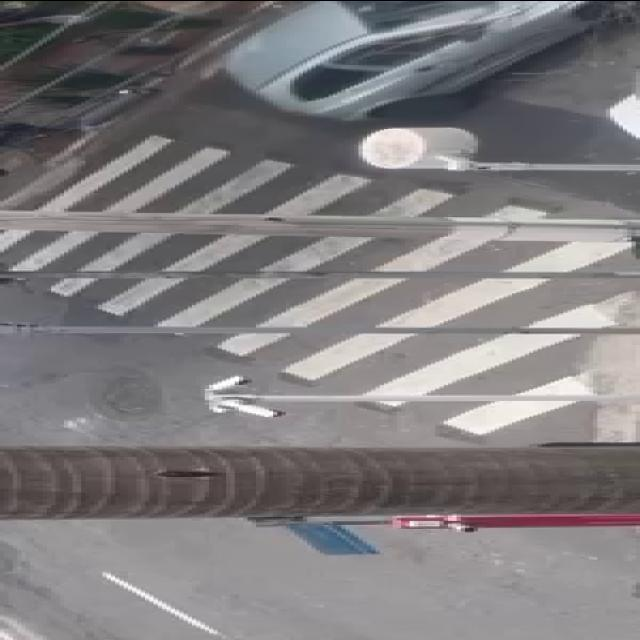car: (222, 0, 612, 120)
